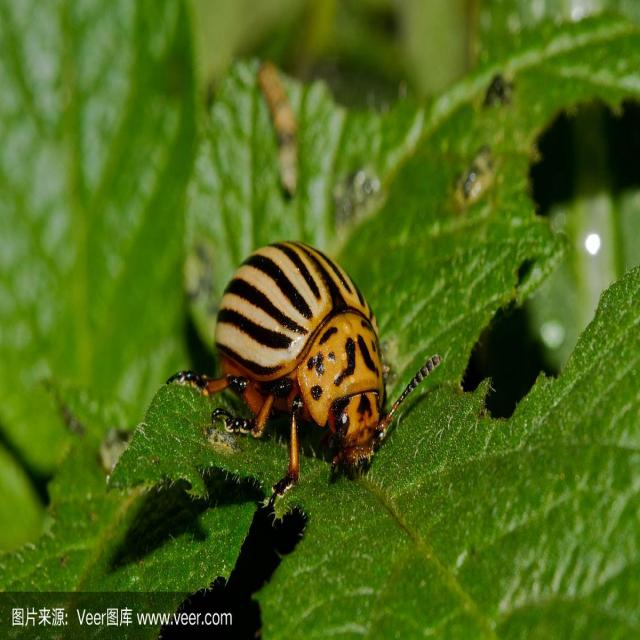ShuCaiHuaBanChong-Grown-: (205, 189, 422, 504)
